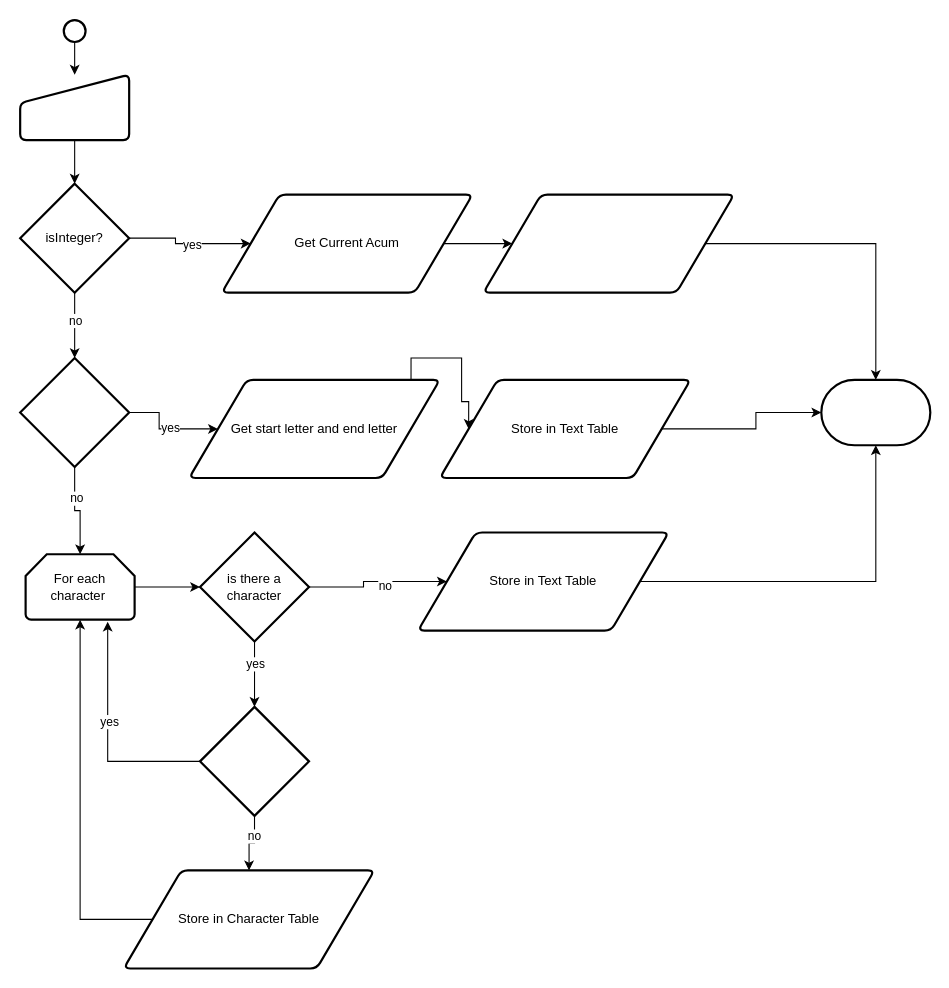
Image size: 949x988. Some labels were removed from this diagram. The centre of each missing label's shape, as x and y in pixels:
Get text: pixel 74 107
has alpha, digits or spaces?: pixel 74 412
is alpha, digits or spaces?: pixel 254 760
Store in Numbers Table: pixel 608 243
